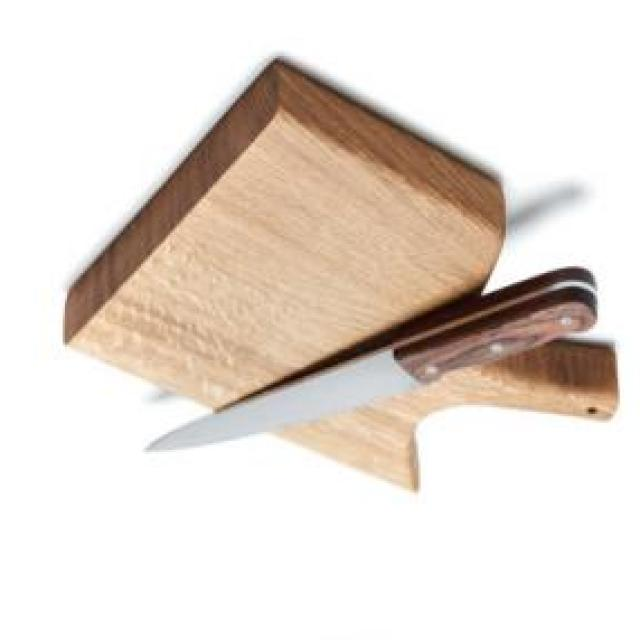knife: (141, 264, 600, 457)
